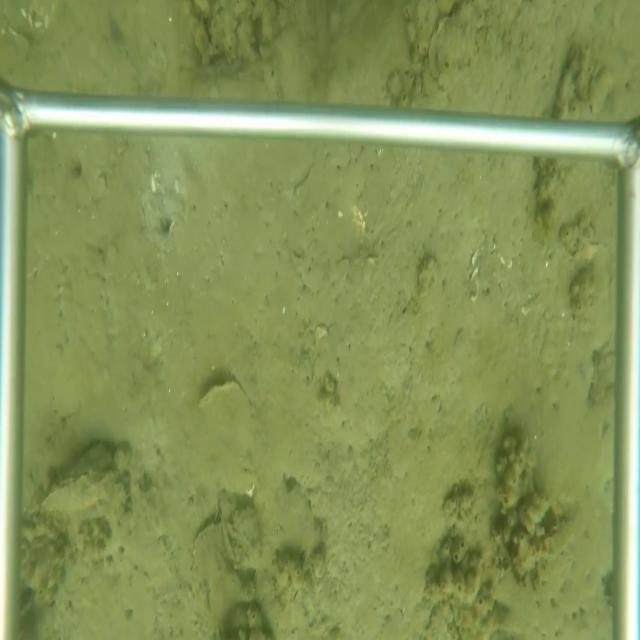Oyster-Closed: (39, 464, 131, 517)
Oyster-Indeterminate: (421, 0, 494, 102)
